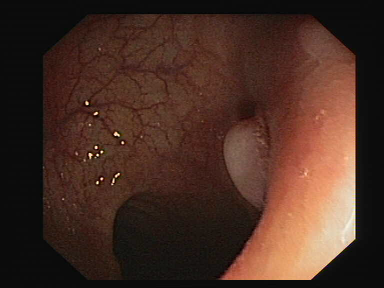polyp: (202, 103, 294, 214)
